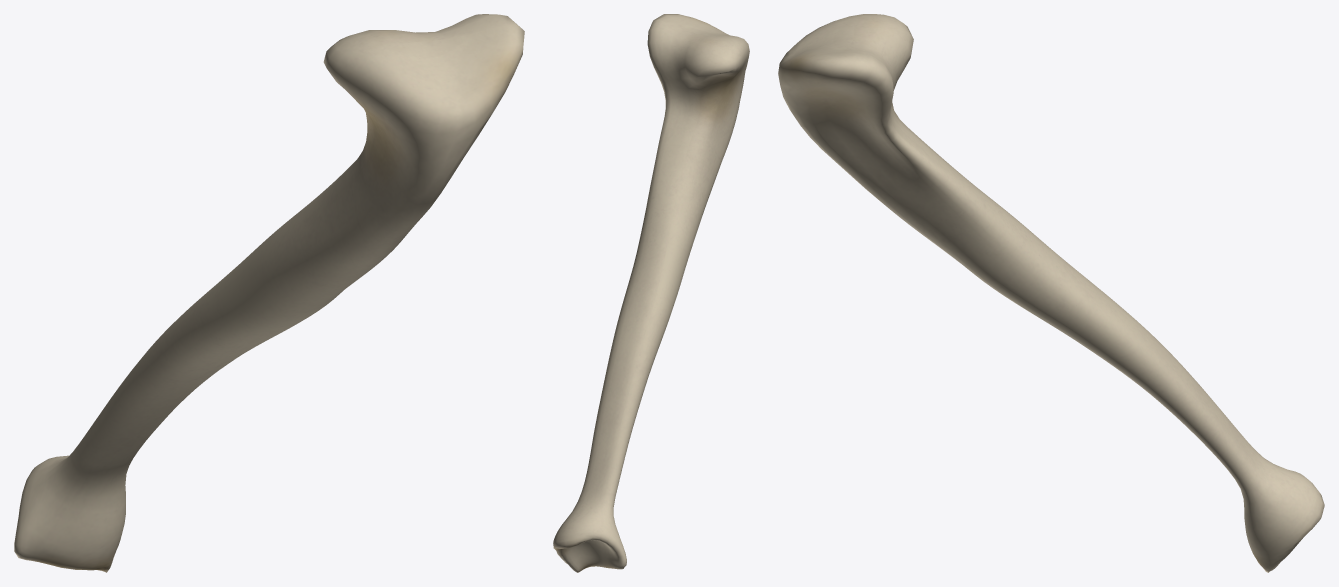
File: R Tibia.fbx
3 views of the same model, side by side, from view 1: azimuth 30°, elevation 25°; view 2: azimuth 150°, elevation 25°; view 3: azimuth 270°, elevation 25° (orthographic). The views are drawn at different scales.
Parts seen in each view (by area): view 1: R Tibia; view 2: R Tibia; view 3: R Tibia.
Boxes of the visible parts, left/top/right/bottom form: R Tibia: left=14, top=14, right=524, bottom=572; R Tibia: left=553, top=14, right=749, bottom=572; R Tibia: left=778, top=14, right=1324, bottom=572.
Size of the model in its own units: 10.41 by 31.45 by 27.7.
